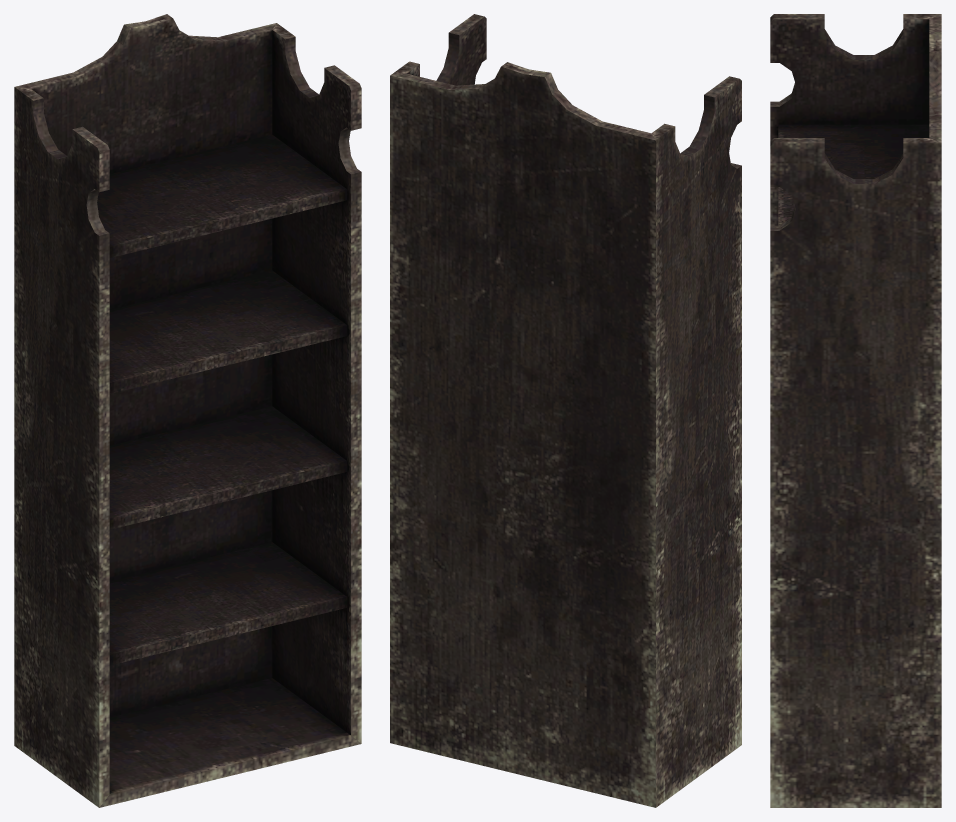
Rendered from shelf_thin_old.dae.
The picture shows the model from 3 angles, left to right: view 1: azimuth 30°, elevation 25°; view 2: azimuth 150°, elevation 25°; view 3: azimuth 270°, elevation 25°; orthographic projection.
Visible parts, largest first — view 1: shelf_thin; view 2: shelf_thin; view 3: shelf_thin.
Boxes of the visible parts, <box> form: shelf_thin: <box>14,14,361,807</box>; shelf_thin: <box>390,14,741,807</box>; shelf_thin: <box>770,14,941,807</box>.
Size of the model in its own units: 1.25 by 3.16 by 0.7.
